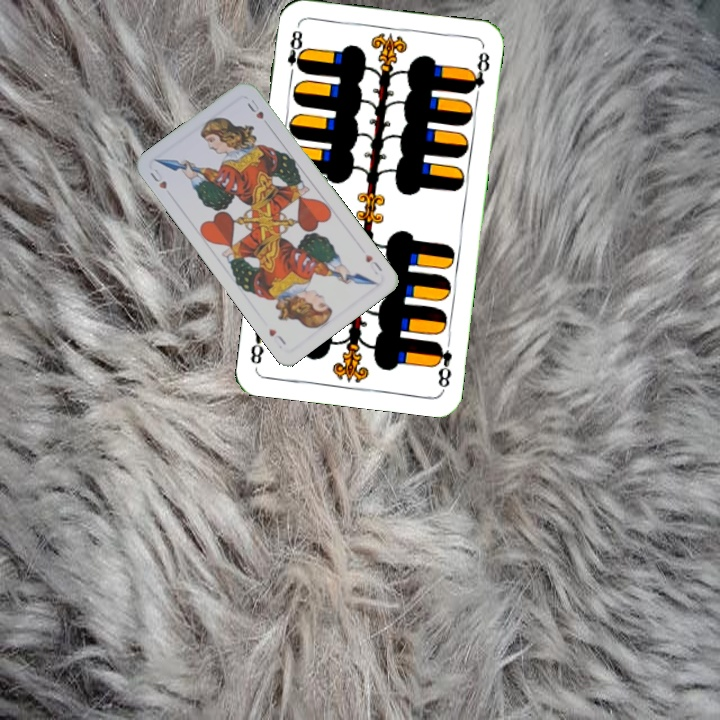E8: (283, 26, 308, 81), (430, 337, 455, 392)
HU: (146, 164, 170, 192), (361, 250, 385, 277)
